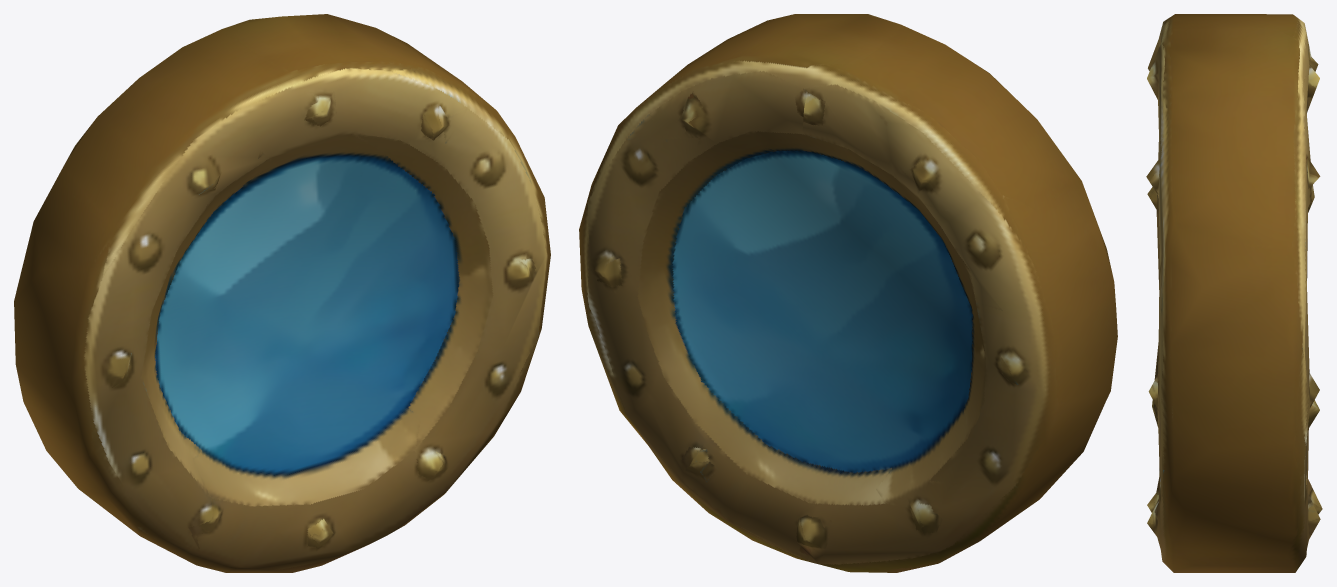
The model's file is round-porthole-window.glb.
3 views of the same model, side by side, from view 1: azimuth 30°, elevation 25°; view 2: azimuth 150°, elevation 25°; view 3: azimuth 270°, elevation 25° (orthographic).
Visible parts, largest first — view 1: geometry_0.001; view 2: geometry_0.001; view 3: geometry_0.001.
Part boxes in pixels (x1=…): geometry_0.001: x1=14, y1=14, x2=550, y2=572; geometry_0.001: x1=579, y1=14, x2=1117, y2=572; geometry_0.001: x1=1146, y1=14, x2=1322, y2=572.
Size of the model in its own units: 0.9924 by 0.9966 by 0.3149.
Materials: 1 (1 with a texture image).
